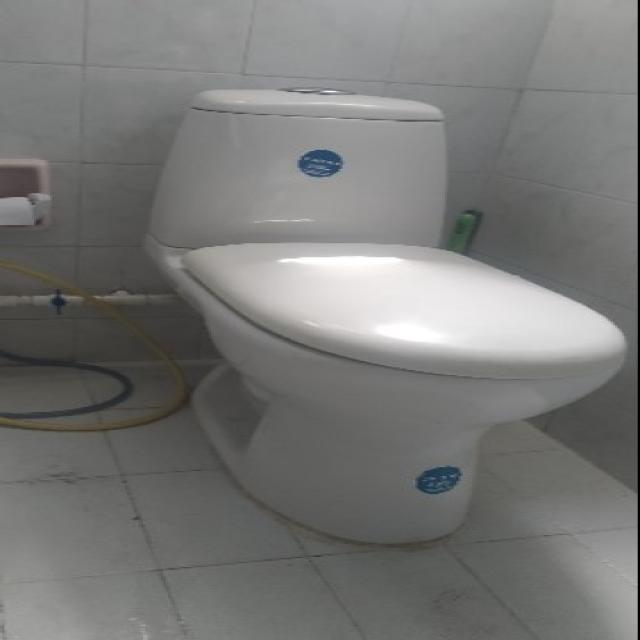toilet: (131, 83, 640, 550)
